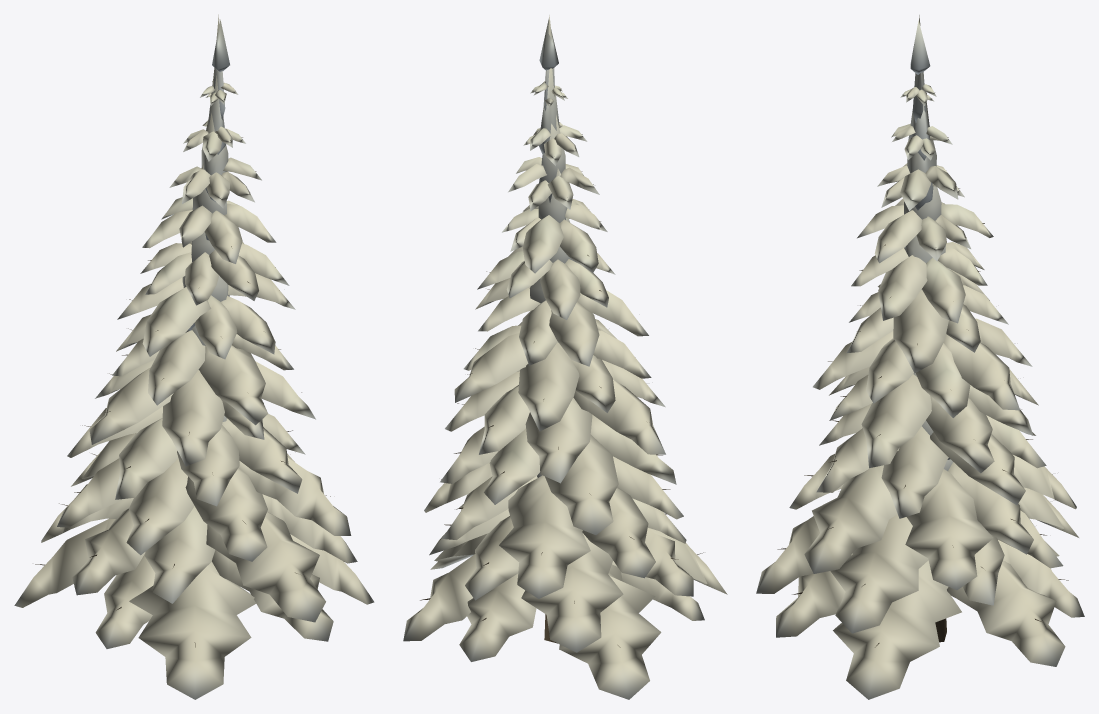
3 views of the same model, side by side, from view 1: azimuth 30°, elevation 25°; view 2: azimuth 150°, elevation 25°; view 3: azimuth 270°, elevation 25° (orthographic). The views are drawn at different scales.
Visible parts, largest first — view 1: crown; view 2: crown; view 3: crown.
Boxes of the visible parts, x1=… form: crown: x1=14, y1=14, x2=374, y2=699; crown: x1=403, y1=15, x2=727, y2=699; crown: x1=756, y1=15, x2=1084, y2=699.
Size of the model in its own units: 6.99 by 14.67 by 6.92.
